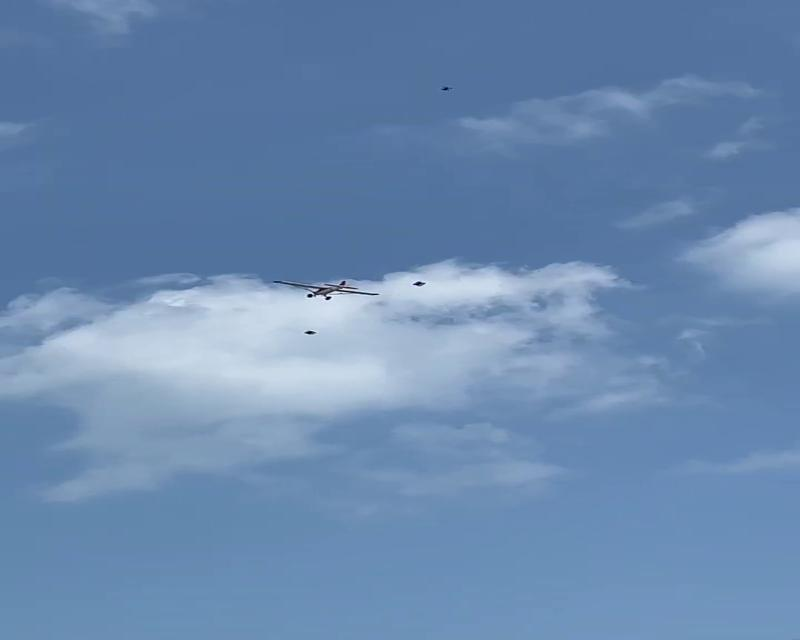UAV: (274, 280, 378, 301)
